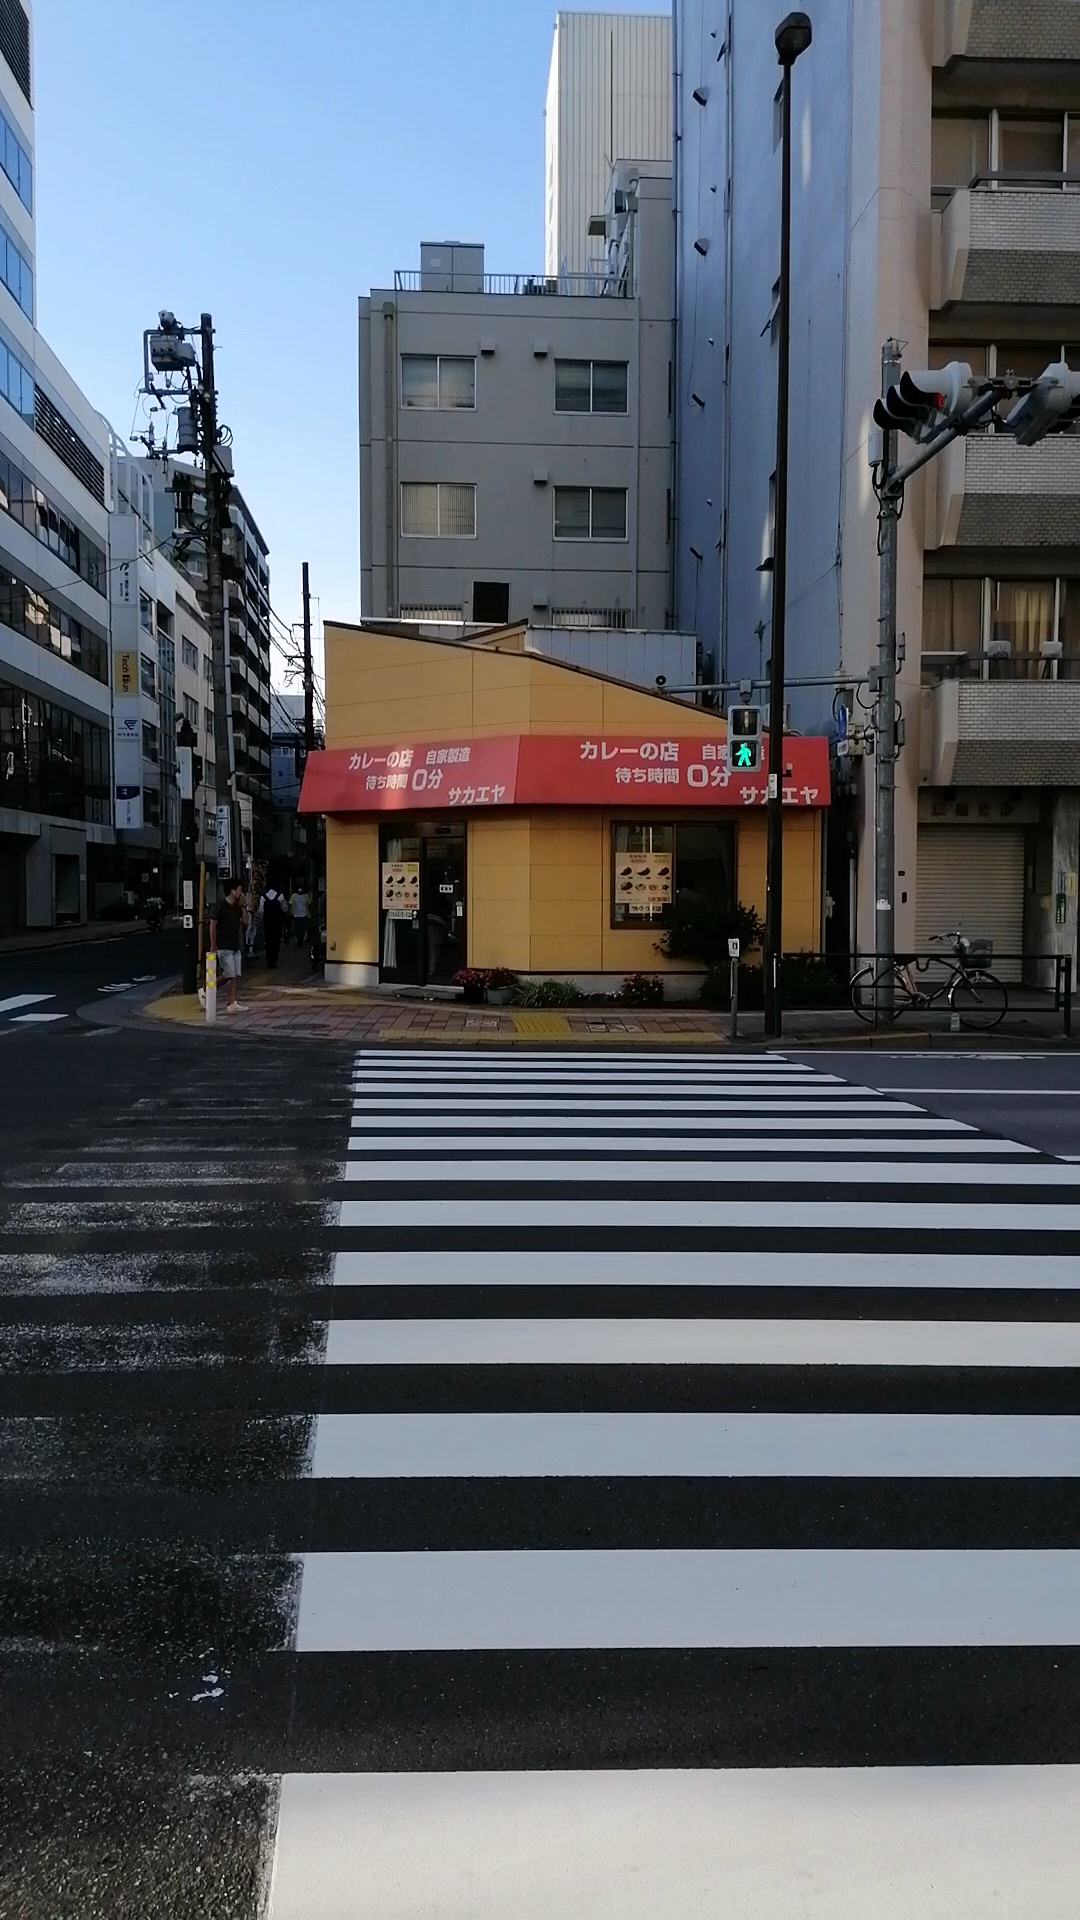green: (725, 702, 760, 774)
